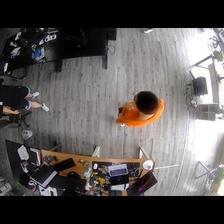normal: (116, 91, 166, 129), (1, 82, 52, 115)
